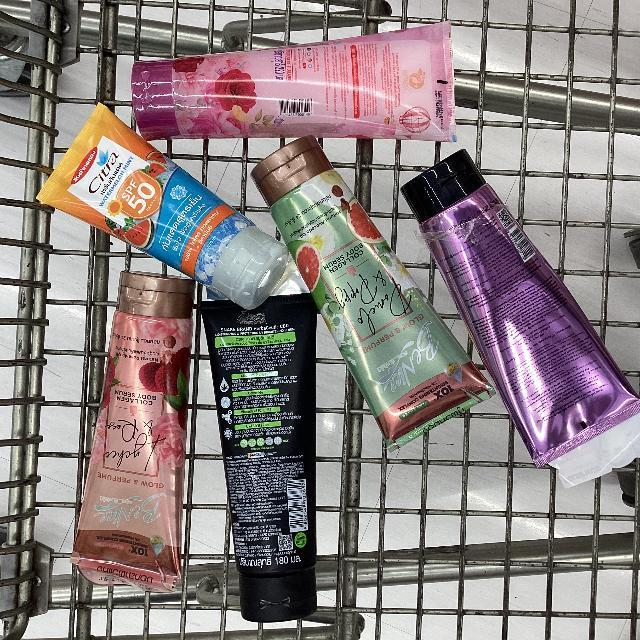Squeeze Tube: (38, 26, 640, 599)
